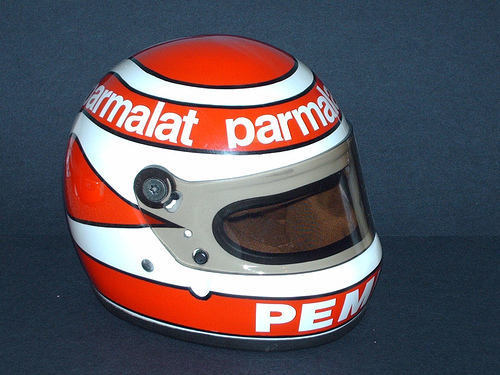helmet: (63, 63, 388, 337)
